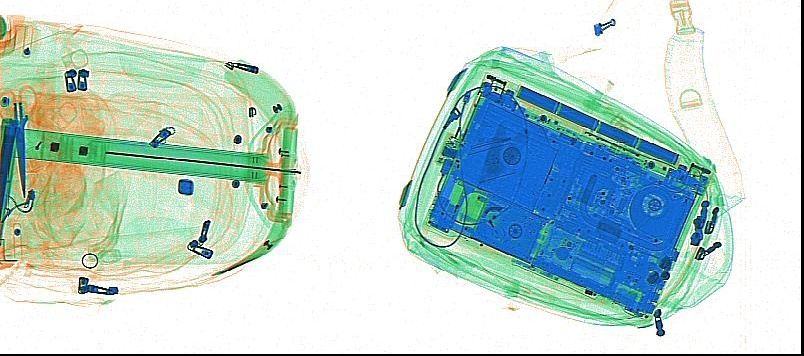knife: (462, 119, 508, 225)
scissors: (1, 83, 37, 198)
